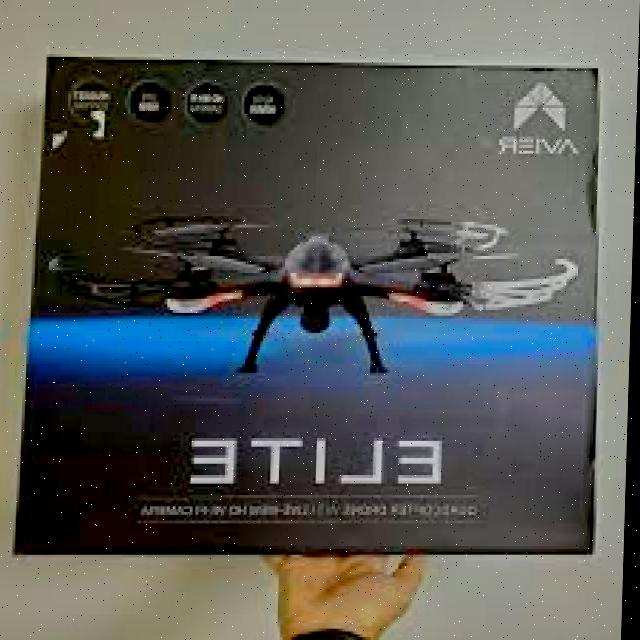drone: (45, 190, 584, 380)
